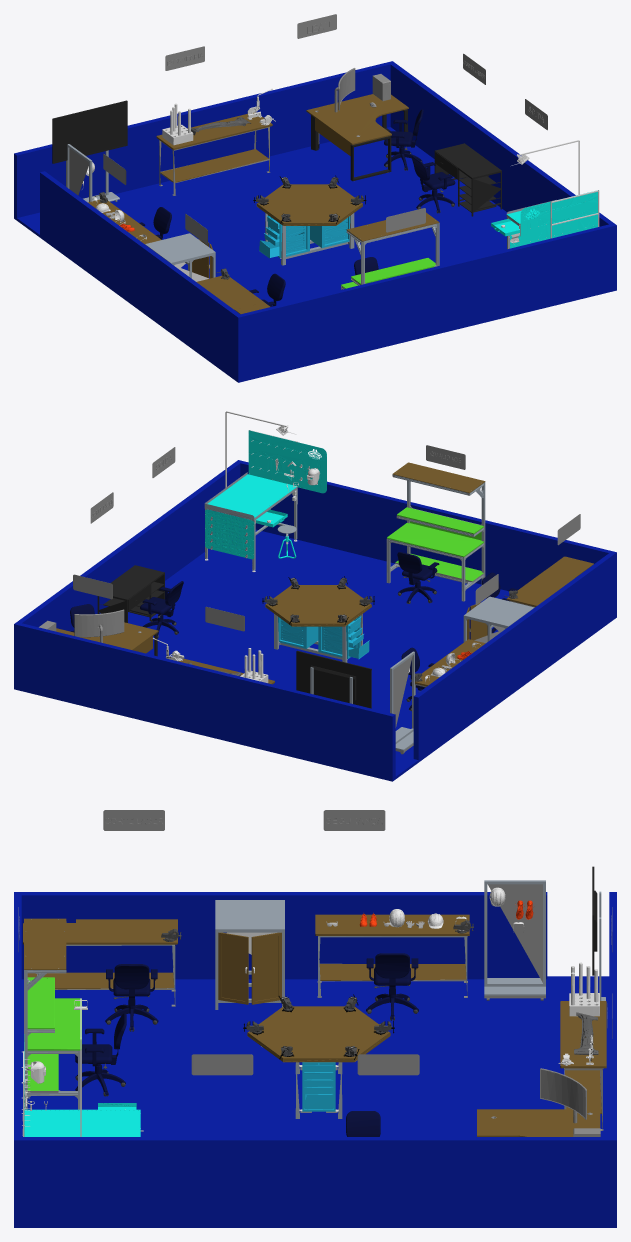
Rendered from cta1.glb.
3 views of the same model, one above another, from view 1: azimuth 30°, elevation 25°; view 2: azimuth 150°, elevation 25°; view 3: azimuth 270°, elevation 25° (orthographic). The views are drawn at different scales.
Visible parts, largest first — view 1: CTA3; view 2: CTA3; view 3: CTA3.
Part boxes in pixels (bbox=[...]): CTA3: bbox=[14, 14, 616, 382]; CTA3: bbox=[14, 411, 616, 781]; CTA3: bbox=[14, 810, 616, 1227].
Size of the model in its own units: 38 by 12.96 by 39.
